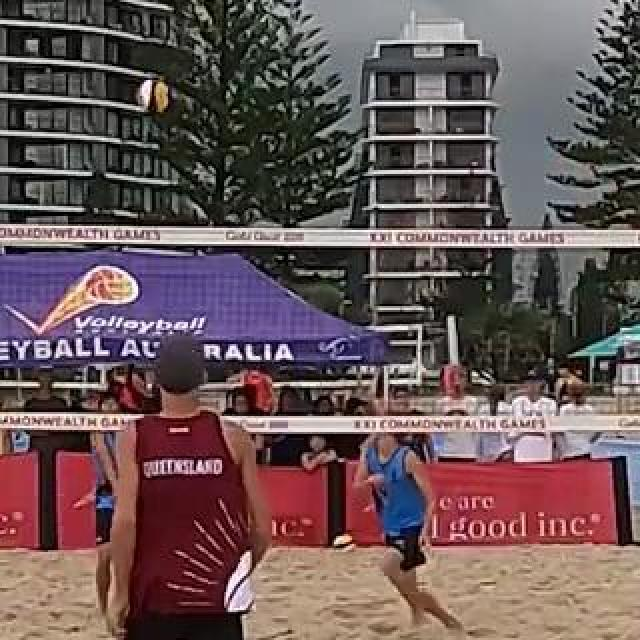volleyball: (138, 80, 170, 112), (334, 533, 356, 555)
